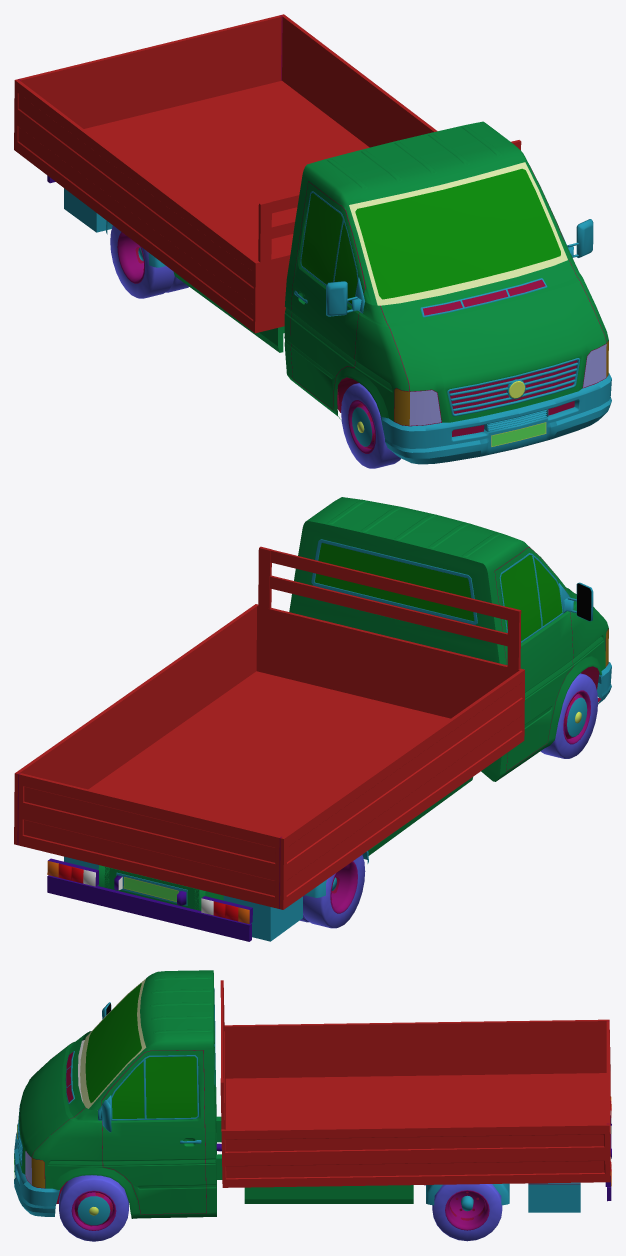
The model's file is car2.obj.
3 views of the same model, one above another, from view 1: azimuth 30°, elevation 25°; view 2: azimuth 150°, elevation 25°; view 3: azimuth 270°, elevation 25° (orthographic). The views are drawn at different scales.
Parts seen in each view (by area): view 1: Default, body, glass, plastic, black, tyre, glassblk, headlght, wheel, headturn, Object01; view 2: Default, body, glass, plastic, body_blk, tyre, wheel, black, rearlght, nplate; view 3: Default, body, glass, plastic, tyre, wheel, black, glassblk.
Boxes of the visible parts, <box> form: Default: <box>14,14,521,333</box>; body: <box>173,121,608,422</box>; glass: <box>301,168,560,303</box>; plastic: <box>64,188,611,464</box>; black: <box>18,15,608,448</box>; tyre: <box>110,225,400,468</box>; glassblk: <box>349,162,567,305</box>; headlght: <box>409,344,606,425</box>; wheel: <box>117,232,375,453</box>; headturn: <box>394,341,608,425</box>; Object01: <box>492,423,545,446</box>; Default: <box>14,546,524,909</box>; body: <box>98,497,608,910</box>; glass: <box>315,543,562,641</box>; plastic: <box>64,539,611,941</box>; body_blk: <box>47,858,252,941</box>; tyre: <box>300,673,597,928</box>; wheel: <box>330,690,590,913</box>; black: <box>17,547,608,908</box>; rearlght: <box>58,863,238,921</box>; nplate: <box>124,877,177,901</box>; Default: <box>220,980,610,1187</box>; body: <box>19,970,413,1218</box>; glass: <box>85,983,214,1118</box>; plastic: <box>14,988,580,1225</box>; tyre: <box>59,1175,502,1241</box>; wheel: <box>71,1185,489,1230</box>; black: <box>25,1021,610,1226</box>; glassblk: <box>80,979,146,1108</box>.
Size of the model in its own units: 60.96 by 52.96 by 146.
